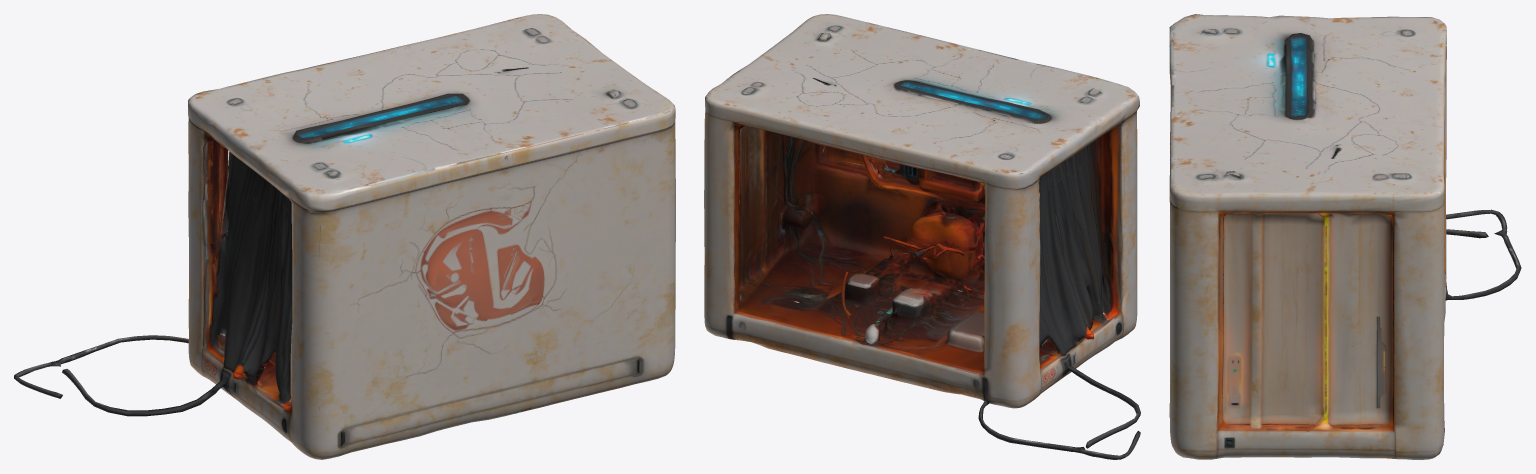
File: drone_charger.glb
3 renders of one model, left to right at view 1: azimuth 30°, elevation 25°; view 2: azimuth 150°, elevation 25°; view 3: azimuth 270°, elevation 25°, orthographic. The views are drawn at different scales.
Size of the model in its own units: 2 by 1.03 by 1.2.
Materials: 1 (1 with a texture image).
